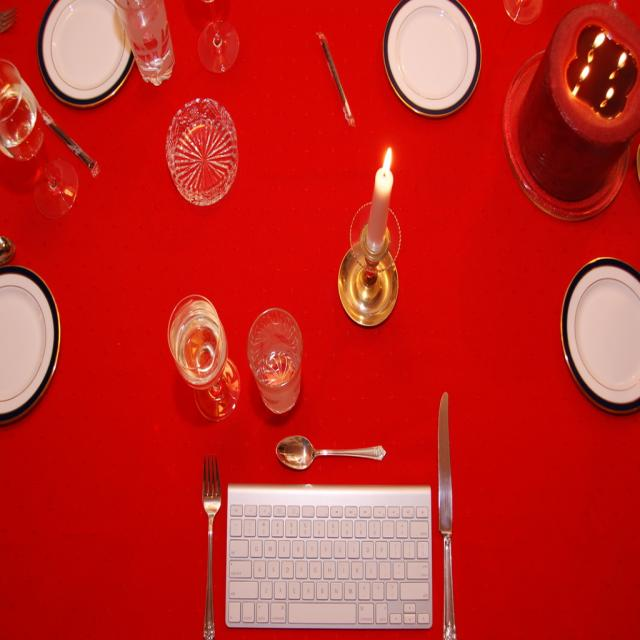non-organic waste: (378, 2, 490, 126), (32, 0, 148, 115), (563, 258, 640, 430), (0, 255, 68, 435)
